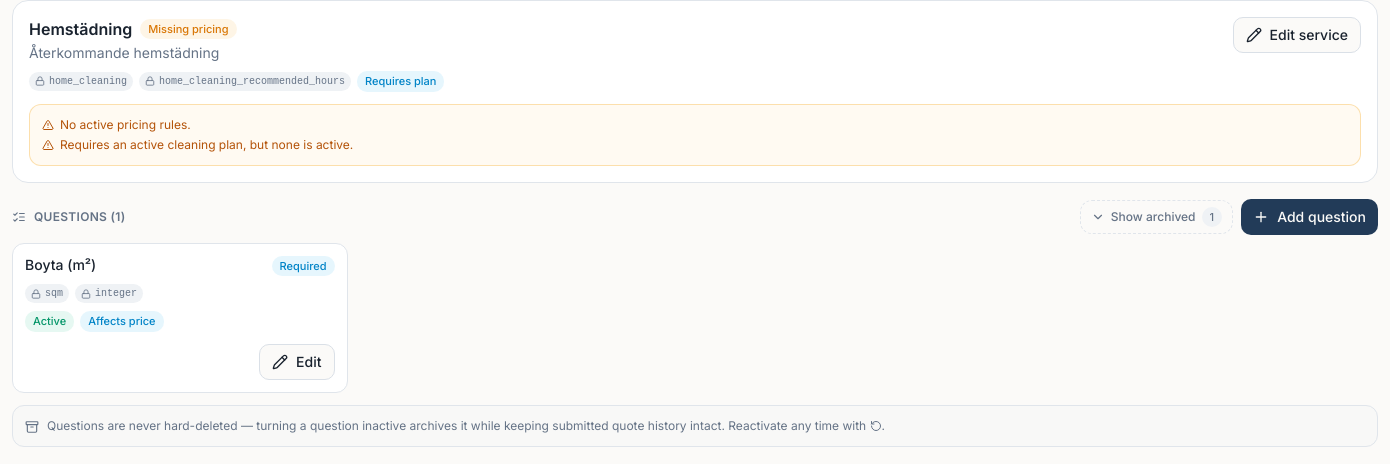
Scenario: ServicesFieldsEditor — GPM-UX-ADMIN-3 embedded mode › shows active questions by default and reveals archived ones via the toggle
Expected: the text "Boyta (m²)" is shown, left=25, top=256, right=96, bottom=273
Expected: the text "Gammalt fält" is not shown
# Reveal archived questions.
Click the button with test id "questions-archived-toggle" at (1156, 216), box left=1080, top=200, right=1233, bottom=234
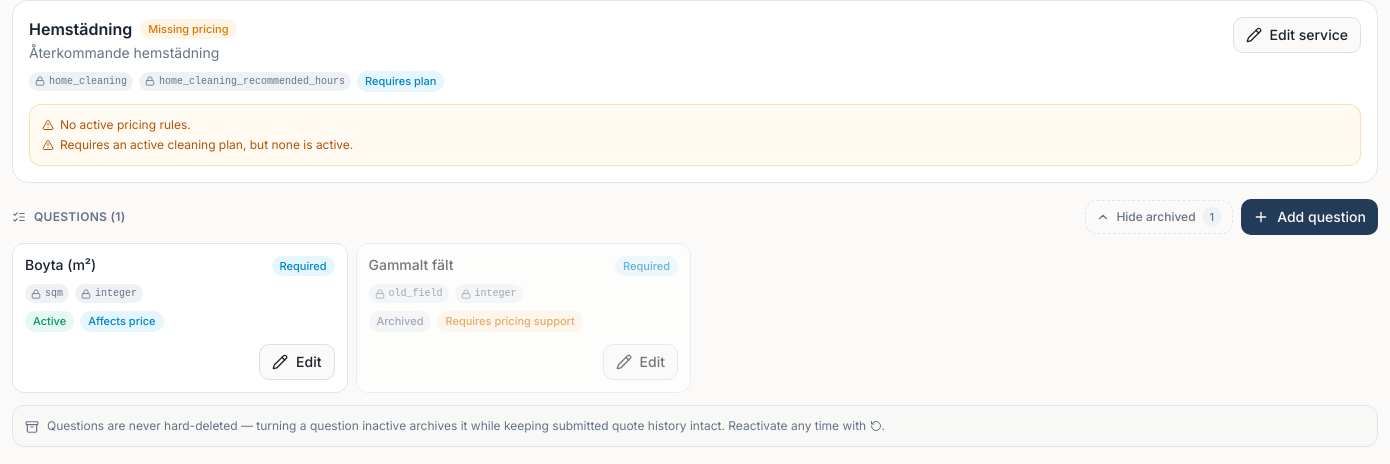
Result: the text "Gammalt fält" is shown at left=368, top=256, right=454, bottom=273
